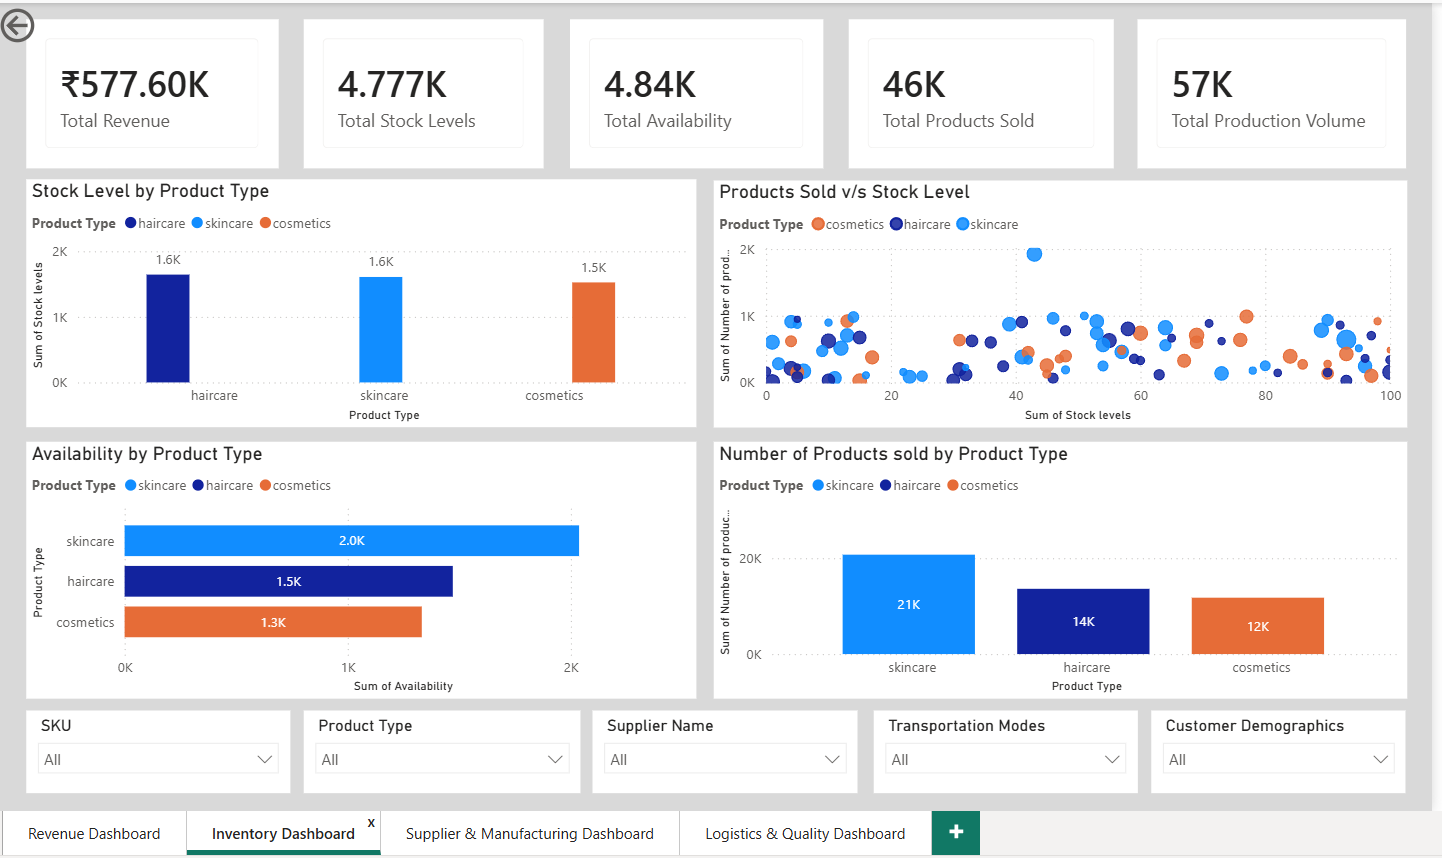

The page's visual inventory and layout, read from the dashboard file:
{"tool":"powerbi","page":{"name":"Inventory Dashboard","canvas":[1280,720],"ordinal":1},"visuals":[{"type":"slicer","fields":{"Values":["supply_chain_data.Product type"]},"box":[274.4,630.2,246.5,73.3],"z":0},{"type":"slicer","fields":{"Values":["supply_chain_data.Supplier name"]},"box":[532.6,630.2,236,73.3],"z":1000},{"type":"slicer","fields":{"Values":["supply_chain_data.Transportation modes"]},"box":[782.6,630.2,234.9,73.3],"z":2000},{"type":"slicer","fields":{"Values":["supply_chain_data.Customer Demographics"]},"box":[1030.2,630.2,226.7,73.3],"z":3000},{"type":"slicer","fields":{"Values":["supply_chain_data.SKU"]},"box":[27.9,630.2,234.9,73.3],"z":4000},{"type":"cardVisual","fields":{"Data":["supply_chain_data.Total Revenue"]},"box":[27.9,14,224.4,132.6],"z":5000},{"type":"cardVisual","fields":{"Data":["supply_chain_data.Avg Stock Levels"]},"box":[274.4,14,214,132.6],"z":6000},{"type":"cardVisual","fields":{"Data":["supply_chain_data.Avg Availability"]},"box":[511.6,14,225.6,132.6],"z":7000},{"type":"cardVisual","fields":{"Data":["supply_chain_data.Total Products Sold"]},"box":[760.5,14,236,132.6],"z":8000},{"type":"cardVisual","fields":{"Data":["supply_chain_data.Total Production Volume"]},"box":[1017.4,14,239.5,132.6],"z":9000},{"type":"clusteredColumnChart","title":"Stock Level by Product Type","fields":{"Category":["supply_chain_data.Product Type"],"Y":["Sum(supply_chain_data.Stock levels)"],"Series":["supply_chain_data.Product Type"]},"box":[27.9,157,596.5,220.9],"z":10000},{"type":"scatterChart","title":" Products Sold v/s Stock Level","fields":{"X":["Sum(supply_chain_data.Stock levels)"],"Category":["supply_chain_data.Number of products sold"],"Series":["supply_chain_data.Product Type"],"Y":["Sum(supply_chain_data.Number of products sold)"],"Size":["Sum(supply_chain_data.Revenue generated)"]},"box":[639.5,158.1,617.4,219.8],"z":11000},{"type":"barChart","title":"Availability by Product Type","fields":{"Category":["supply_chain_data.Product Type"],"Y":["Sum(supply_chain_data.Availability)"],"Series":["supply_chain_data.Product Type"]},"box":[27.9,390.7,596.5,229.1],"z":12000},{"type":"columnChart","title":"Number of Products sold by Product Type","fields":{"Series":["supply_chain_data.Product Type"],"Y":["Sum(supply_chain_data.Number of products sold)"],"Category":["supply_chain_data.Product Type"]},"box":[639.5,390.7,617.4,229.1],"z":13000},{"type":"actionButton","box":[0,0,100,40],"z":14000}]}

Visuals, with their boxes on the page's 1280x720 design canvas (x1, y1, x2, y2). These are canvas units, not pixel positions in the 1442x858 screenshot, which may show the page scaled, cropped or inside an application window:
slicer - supply_chain_data.Product type: <bbox>274, 630, 521, 704</bbox>
slicer - supply_chain_data.Supplier name: <bbox>533, 630, 769, 704</bbox>
slicer - supply_chain_data.Transportation modes: <bbox>783, 630, 1018, 704</bbox>
slicer - supply_chain_data.Customer Demographics: <bbox>1030, 630, 1257, 704</bbox>
slicer - supply_chain_data.SKU: <bbox>28, 630, 263, 704</bbox>
cardVisual - supply_chain_data.Total Revenue: <bbox>28, 14, 252, 147</bbox>
cardVisual - supply_chain_data.Avg Stock Levels: <bbox>274, 14, 488, 147</bbox>
cardVisual - supply_chain_data.Avg Availability: <bbox>512, 14, 737, 147</bbox>
cardVisual - supply_chain_data.Total Products Sold: <bbox>760, 14, 996, 147</bbox>
cardVisual - supply_chain_data.Total Production Volume: <bbox>1017, 14, 1257, 147</bbox>
"Stock Level by Product Type" clusteredColumnChart: <bbox>28, 157, 624, 378</bbox>
" Products Sold v/s Stock Level" scatterChart: <bbox>640, 158, 1257, 378</bbox>
"Availability by Product Type" barChart: <bbox>28, 391, 624, 620</bbox>
"Number of Products sold by Product Type" columnChart: <bbox>640, 391, 1257, 620</bbox>
actionButton: <bbox>0, 0, 100, 40</bbox>
